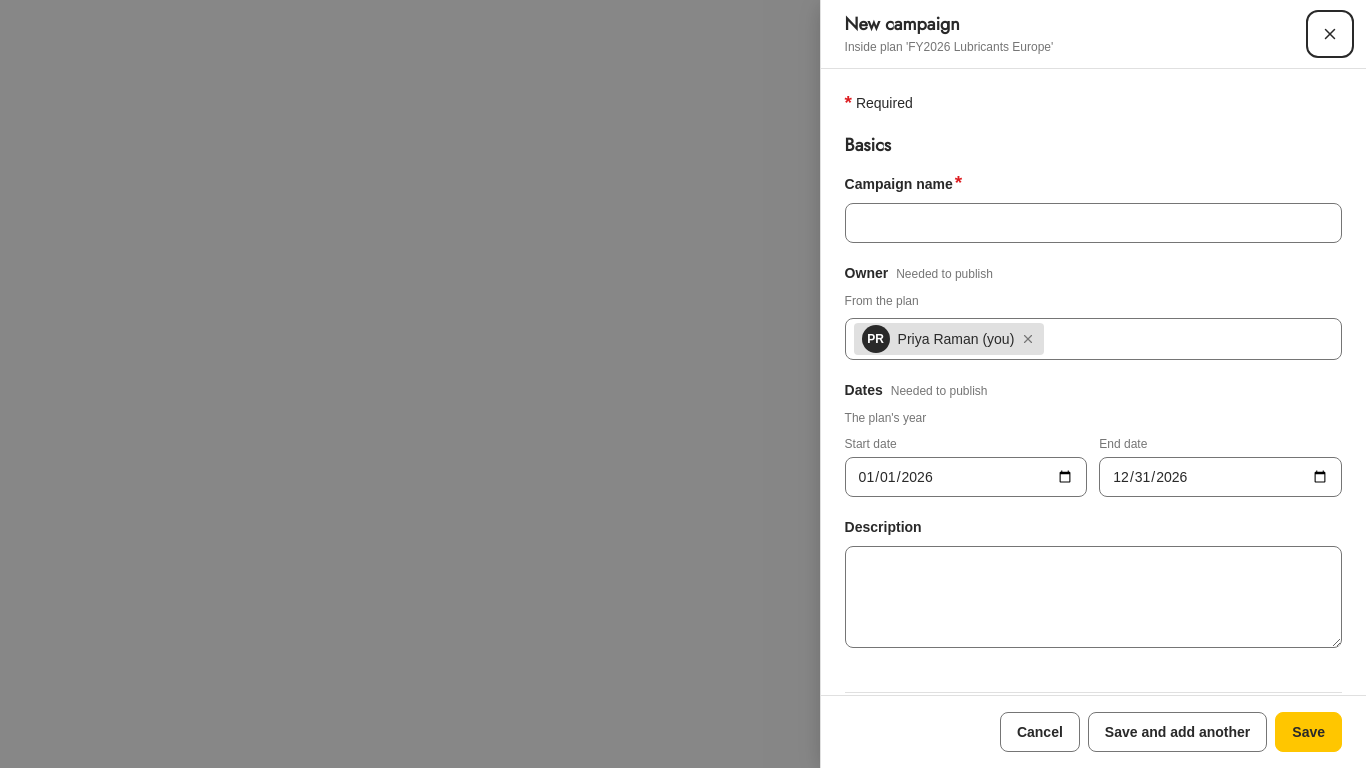
Scenario: NewCampaignPanel (feature 005, US1) › drops a default’s label once it is changed (FR-003)
Expected: the field labelled "Campaign name" is shown, [845,203,1342,243]
Expected: the text "From the plan" is shown, [845,294,919,308]
Type "2026-06-30" into the date field labelled "End date" at x=1221, y=477, box [1099,457,1342,497]
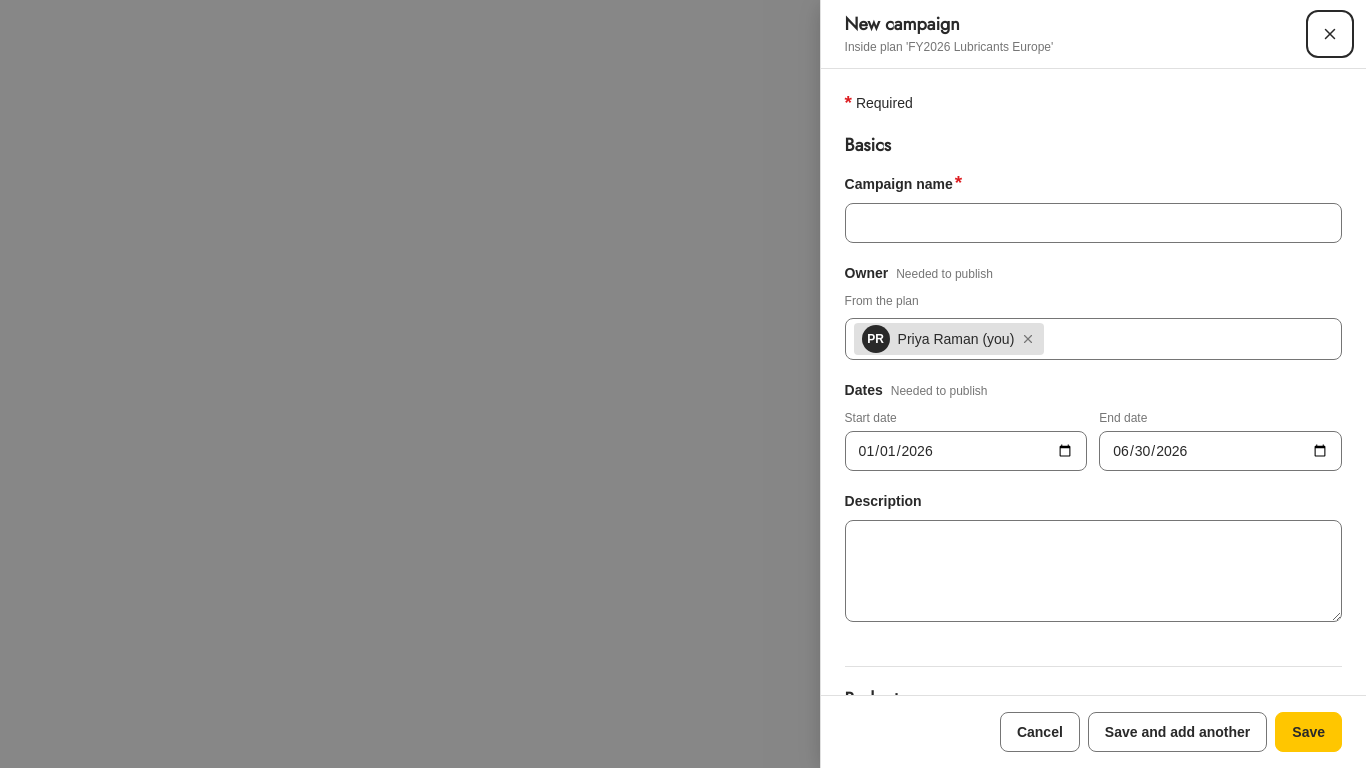
Result: the text "The plan's year" is gone
